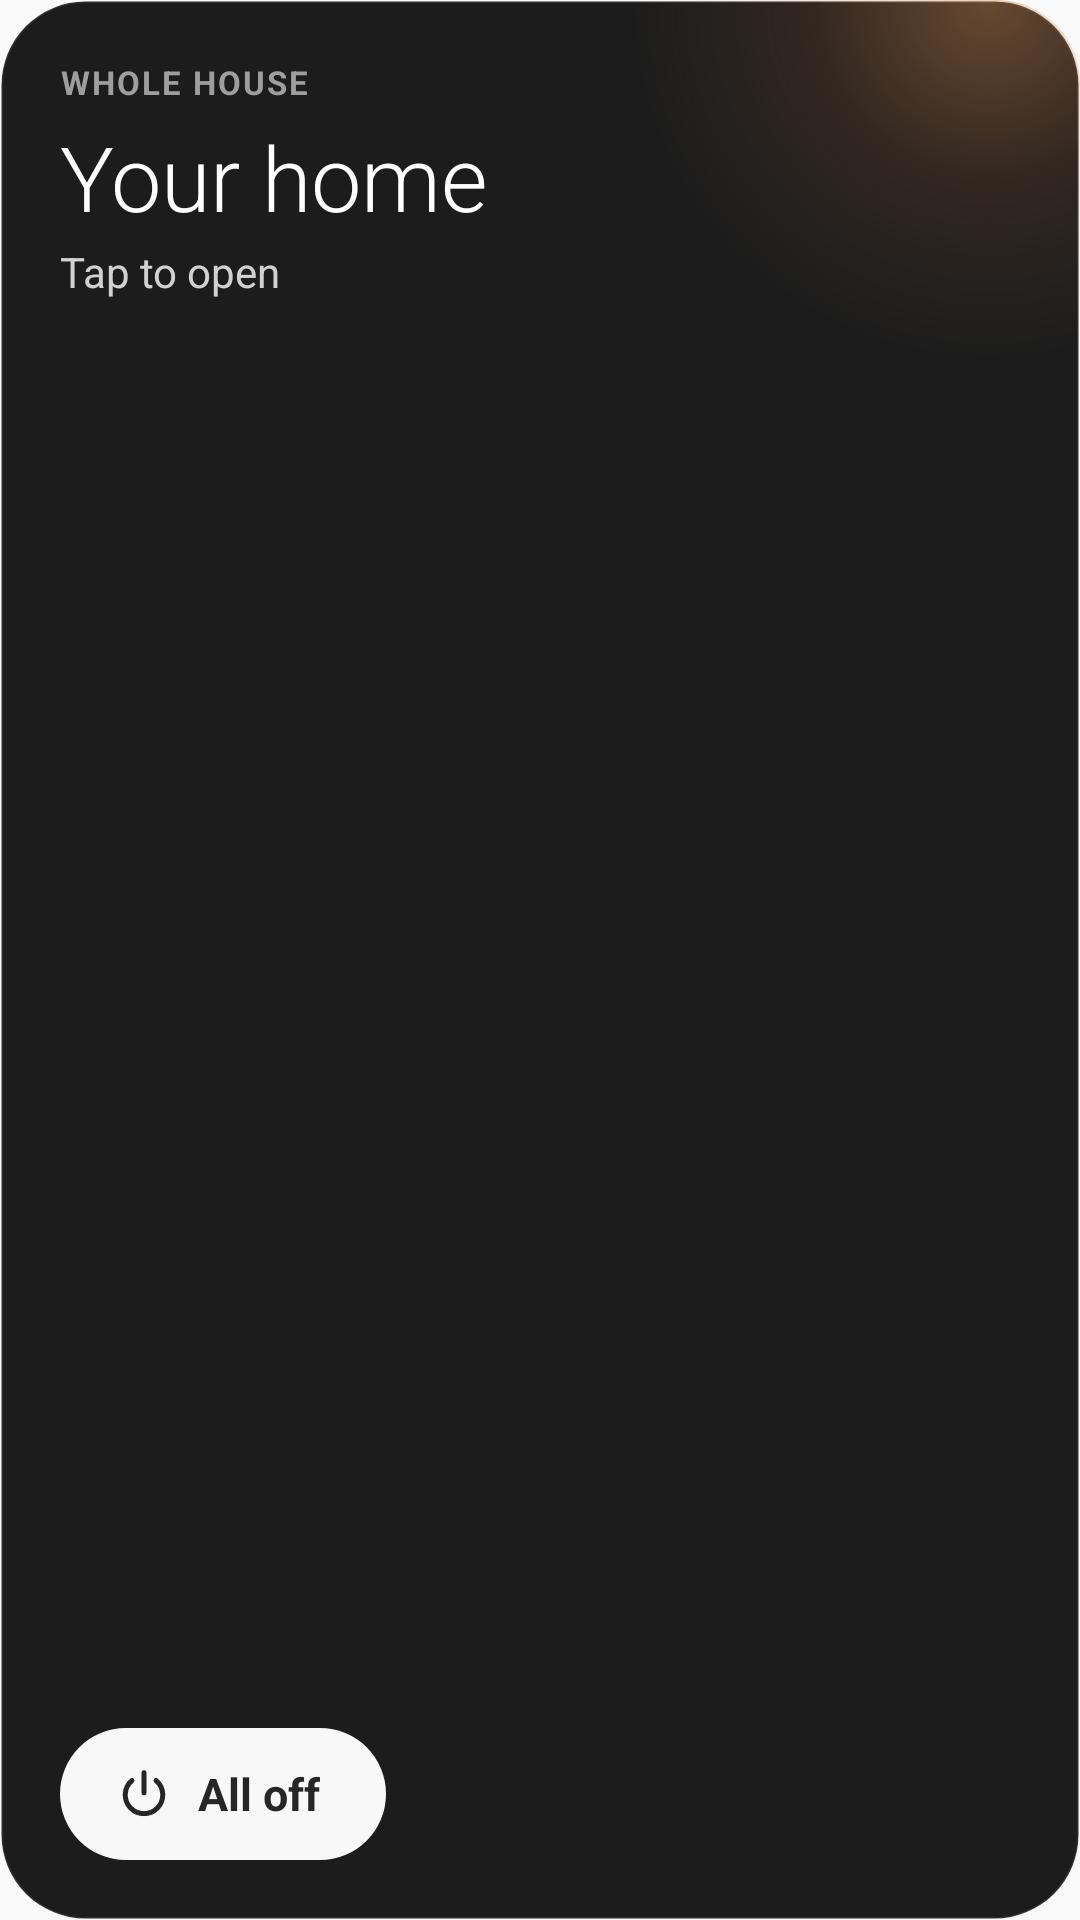

Screen size 1080x1920. Icon name, then its box in pixels as (x1, y1, x2, y2):
power: (122, 1770, 166, 1816)
